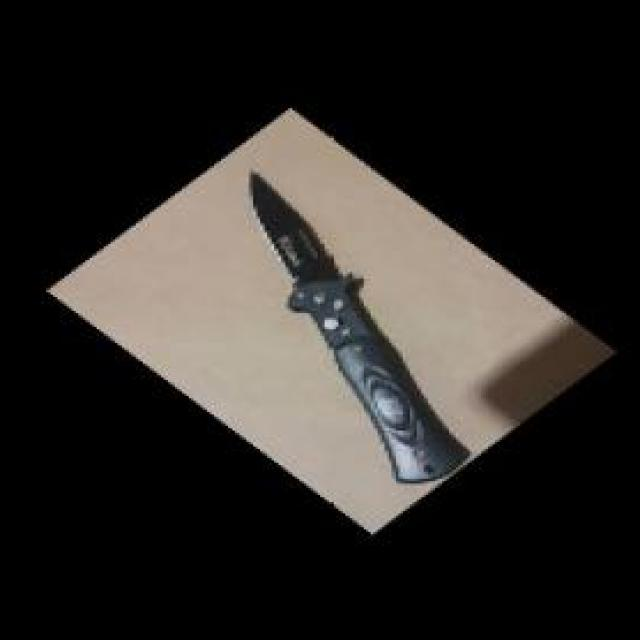knife: (248, 161, 476, 484)
